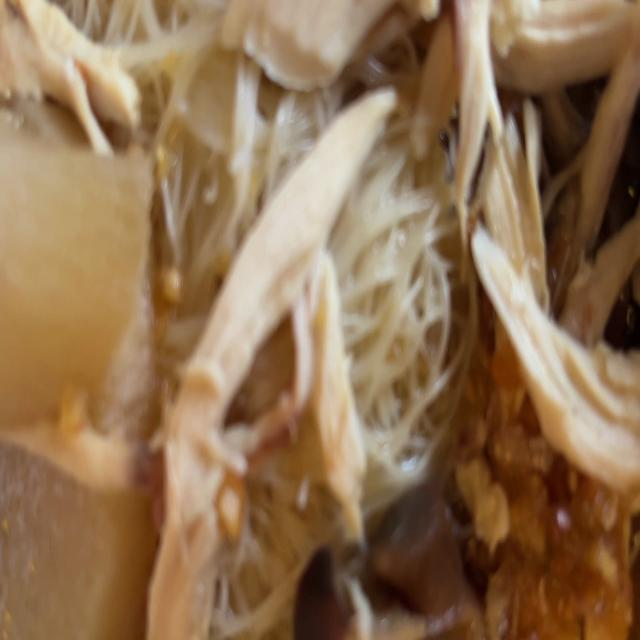chicken_shredded: (211, 134, 640, 507), (168, 96, 390, 498), (22, 0, 640, 132), (475, 238, 640, 478), (454, 0, 524, 271), (296, 257, 363, 514)
daikon_radish: (0, 149, 159, 421), (0, 444, 160, 640)
noodle: (0, 0, 640, 640)
